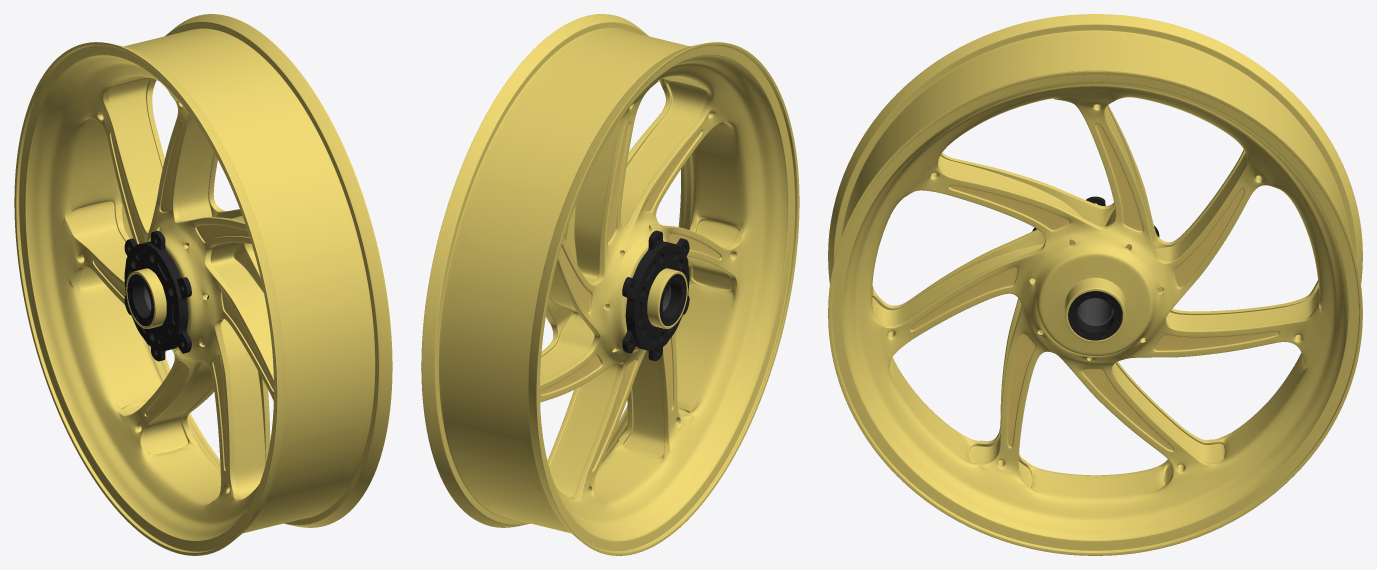
Rendered from cerchio_lega.glb.
3 renders of one model, left to right at view 1: azimuth 30°, elevation 25°; view 2: azimuth 150°, elevation 25°; view 3: azimuth 270°, elevation 25°, orthographic.
Parts seen in each view (by area): view 1: Object_4, Object_8, Object_6; view 2: Object_4, Object_8, Object_6; view 3: Object_4, Object_6, Object_8, Object_14.
Part boxes in pixels (x1,y1,x2,y2): Object_4: [14, 14, 392, 555]; Object_8: [124, 230, 191, 361]; Object_6: [94, 121, 273, 469]; Object_4: [421, 14, 799, 555]; Object_8: [622, 230, 689, 361]; Object_6: [540, 123, 720, 470]; Object_4: [828, 14, 1362, 555]; Object_6: [910, 123, 1279, 450]; Object_8: [1032, 196, 1159, 340]; Object_14: [1076, 298, 1114, 326].
Bounding box in the file's own units: 0.138 × 0.5 × 0.5.
